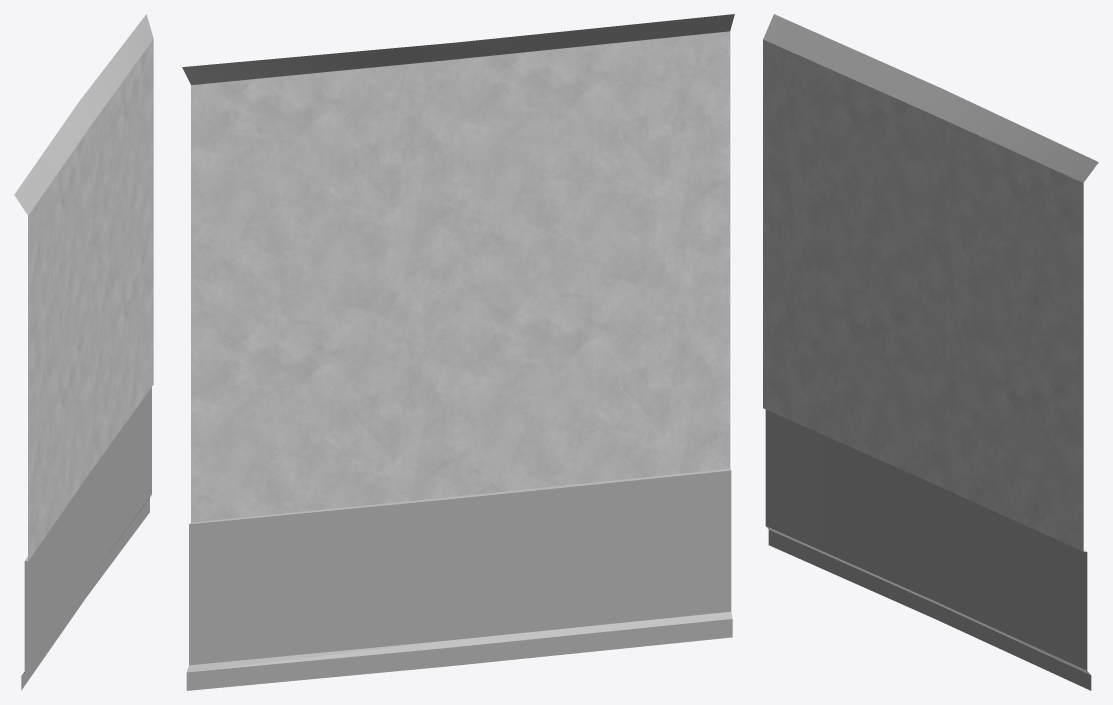
The model's file is WallIntDiagA.fbx.
3 renders of one model, left to right at view 1: azimuth 30°, elevation 25°; view 2: azimuth 150°, elevation 25°; view 3: azimuth 270°, elevation 25°, orthographic. The views are drawn at different scales.
Visible parts, largest first — view 1: WallIntDiagA; view 2: WallIntDiagA; view 3: WallIntDiagA.
Boxes of the visible parts, x1,y1,x2,y2 form: WallIntDiagA: [14, 14, 153, 690]; WallIntDiagA: [182, 14, 734, 690]; WallIntDiagA: [763, 14, 1098, 690].
Bounding box in the file's own units: 228 × 380 × 219.
